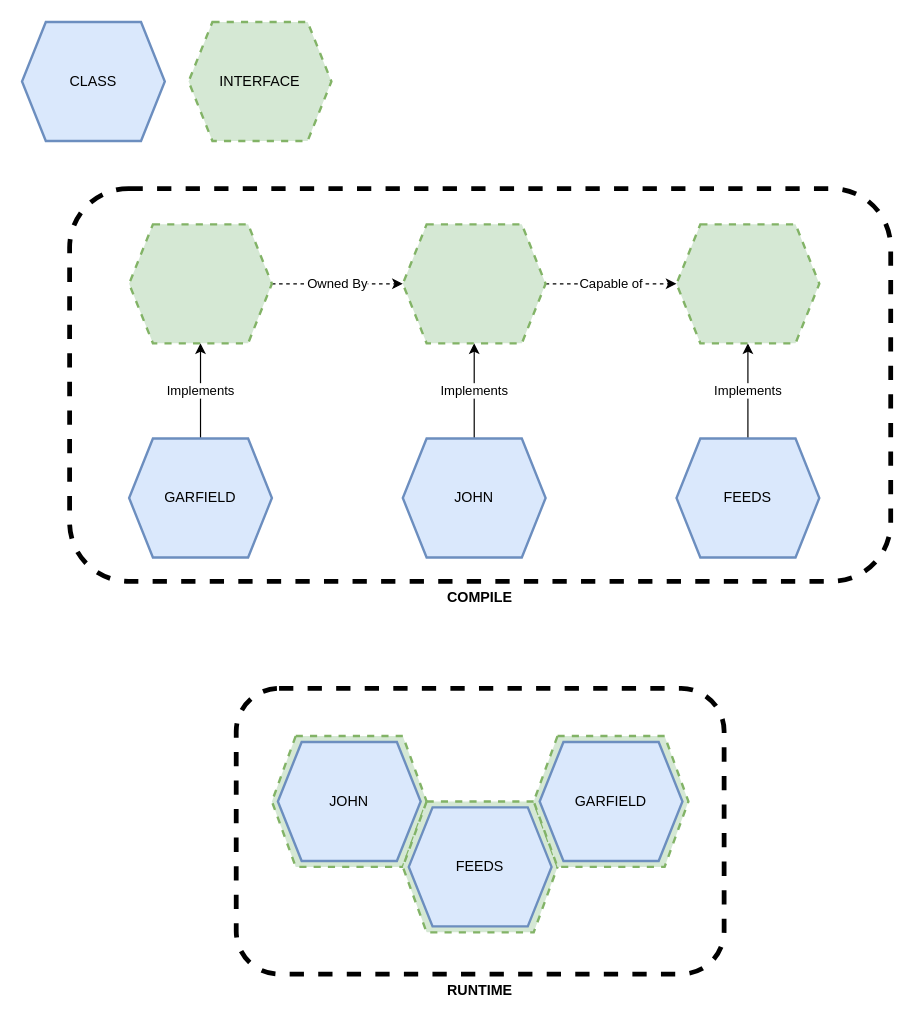
The diagram is 913 pixels wide and 1019 high, and some of its shapes have lost their labels. Here are the shapes that lost their labels. From the top down, the centre of each, then its label:
At pixel 200 283: "PET".
At pixel 473 283: "MASTER".
At pixel 747 283: "ACTION".
